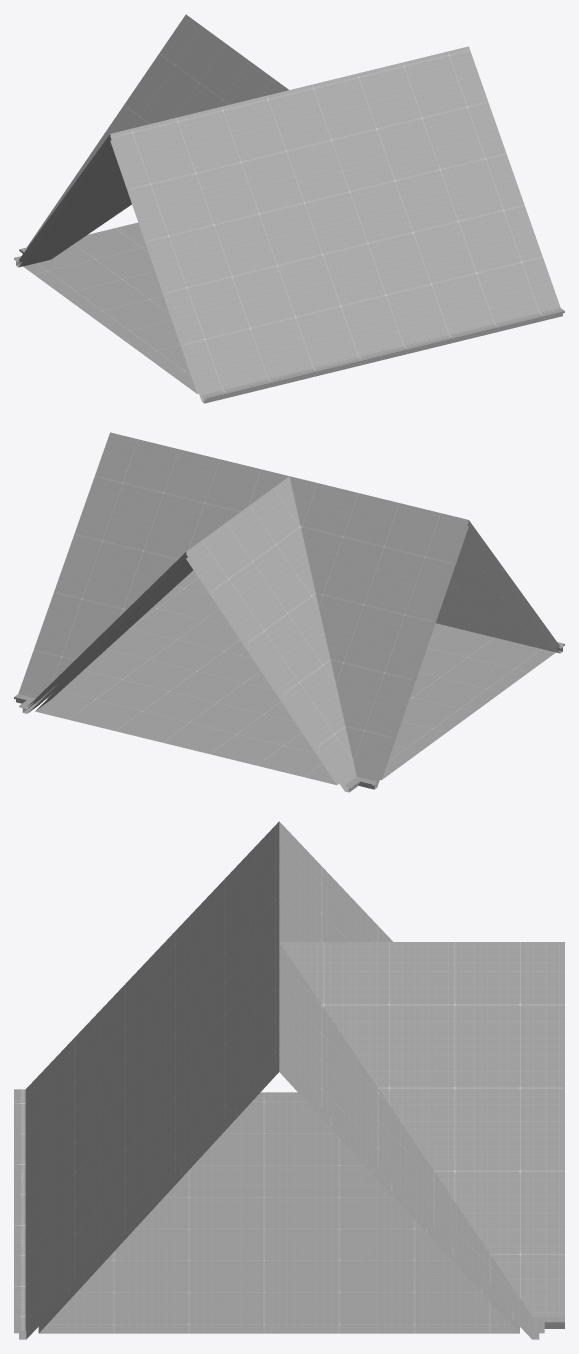
File: HighRoof.002.fbx
The picture shows the model from 3 angles, top to bottom: view 1: azimuth 30°, elevation 25°; view 2: azimuth 150°, elevation 25°; view 3: azimuth 270°, elevation 25°; orthographic projection. The views are drawn at different scales.
Visible parts, largest first — view 1: HighRoof.002; view 2: HighRoof.002; view 3: HighRoof.002.
Boxes of the visible parts, x1,y1,x2,y2 form: HighRoof.002: (14,14,564,403); HighRoof.002: (14,432,564,792); HighRoof.002: (14,821,564,1339).
Size of the model in its own units: 760 by 406 by 733.
